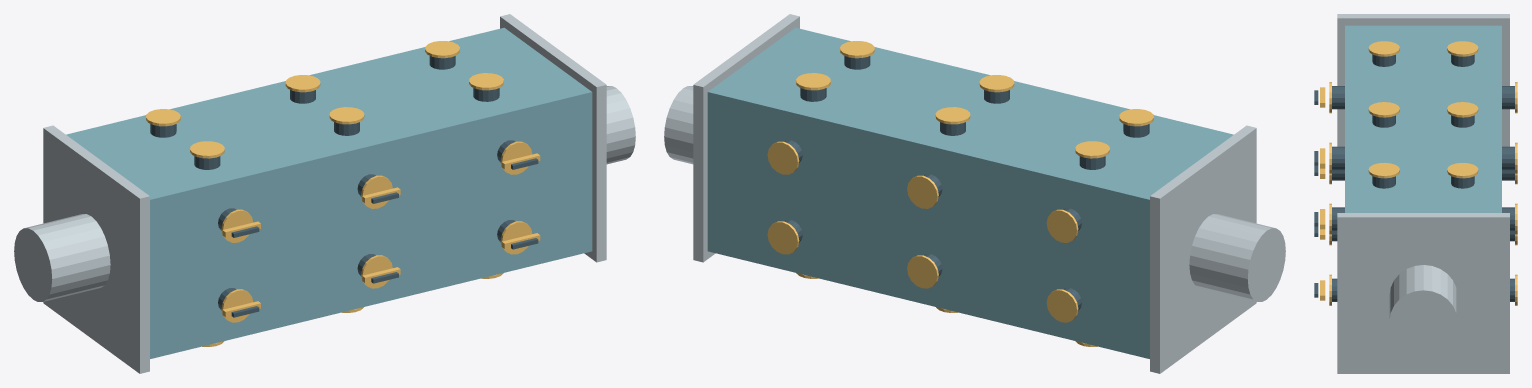
File: WakeMap-array.glb
3 views of the same model, side by side, from view 1: azimuth 30°, elevation 25°; view 2: azimuth 150°, elevation 25°; view 3: azimuth 270°, elevation 25° (orthographic). The views are drawn at different scales.
Visible parts, largest first — view 1: wall, metal, amber, dark; view 2: wall, metal, amber, dark; view 3: metal, wall, dark, amber.
Boxes of the visible parts, bbox=[...] form: wall: bbox=[66, 27, 592, 358]; metal: bbox=[14, 14, 635, 373]; amber: bbox=[146, 41, 540, 346]; dark: bbox=[150, 56, 538, 317]; wall: bbox=[707, 27, 1233, 358]; metal: bbox=[664, 14, 1285, 373]; amber: bbox=[767, 41, 1153, 346]; dark: bbox=[784, 56, 1149, 310]; metal: bbox=[1337, 14, 1509, 373]; wall: bbox=[1345, 25, 1501, 212]; dark: bbox=[1314, 54, 1514, 301]; amber: bbox=[1320, 41, 1517, 305].
Size of the model in its own units: 0.46 by 0.144 by 0.1555.
